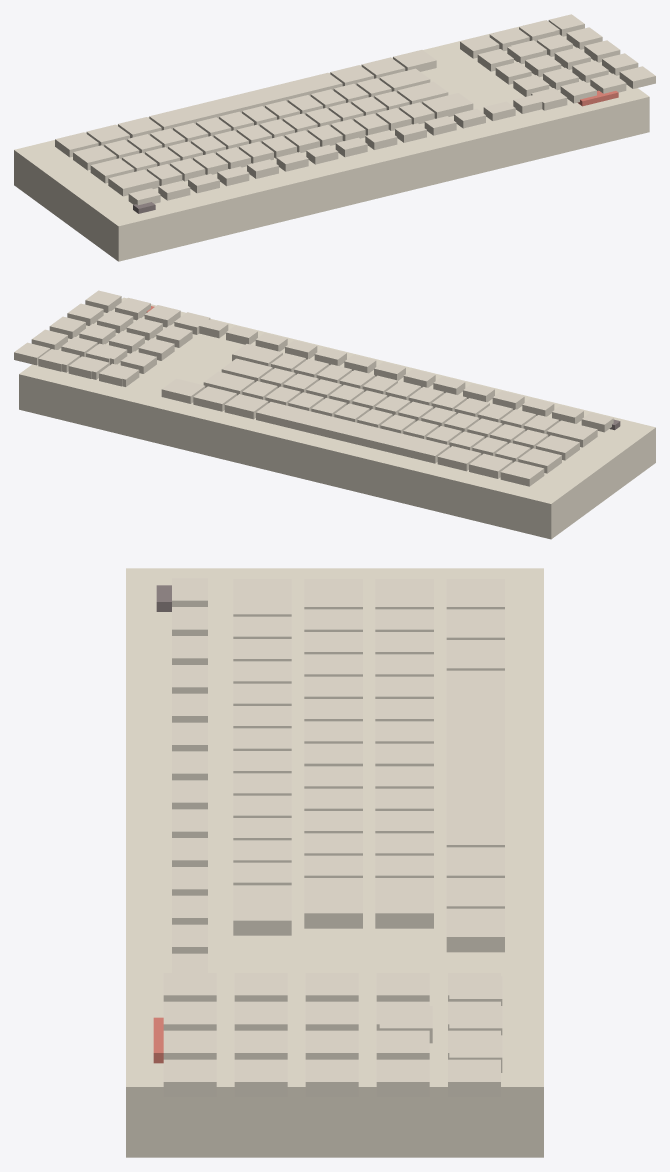
Rendered from item_88_keyboard.glb.
3 views of the same model, one above another, from view 1: azimuth 30°, elevation 25°; view 2: azimuth 150°, elevation 25°; view 3: azimuth 270°, elevation 25° (orthographic). The views are drawn at different scales.
Visible parts, largest first — view 1: I88_Body, I88_B3, I88_K00, I88_K013, I88_K113, I88_K213, I88_K10, I88_B0, I88_B6, I88_K20, I88_N03, I88_B5 (+68 smaller); view 2: I88_Body, I88_B3, I88_K00, I88_B0, I88_B6, I88_B1, I88_B4, I88_B2, I88_B5, I88_K013, I88_K213, I88_K113 (+72 smaller); view 3: I88_Body, I88_B3, I88_K013, I88_K113, I88_K213, I88_B6, I88_K00, I88_N03, I88_N13, I88_N23, I88_N33, I88_N43 (+73 smaller).
Boxes of the visible parts, bbox=[...] form: I88_Body: bbox=[14, 21, 649, 261]; I88_B3: bbox=[149, 72, 342, 130]; I88_K00: bbox=[108, 169, 159, 196]; I88_K013: bbox=[422, 93, 473, 118]; I88_K113: bbox=[397, 81, 448, 104]; I88_K213: bbox=[379, 68, 430, 92]; I88_K10: bbox=[90, 158, 134, 183]; I88_B0: bbox=[55, 132, 98, 157]; I88_B6: bbox=[393, 50, 436, 71]; I88_K20: bbox=[73, 145, 116, 170]; I88_N03: bbox=[619, 66, 655, 88]; I88_B5: bbox=[361, 57, 405, 79]; I88_Body: bbox=[19, 297, 655, 539]; I88_B3: bbox=[256, 402, 449, 463]; I88_K00: bbox=[546, 420, 597, 447]; I88_B0: bbox=[500, 461, 544, 486]; I88_B6: bbox=[161, 378, 205, 403]; I88_B1: bbox=[469, 453, 512, 478]; I88_B4: bbox=[224, 394, 268, 419]; I88_B2: bbox=[437, 446, 481, 471]; I88_B5: bbox=[193, 386, 236, 411]; I88_K013: bbox=[232, 344, 282, 366]; I88_K213: bbox=[203, 371, 254, 395]; I88_K113: bbox=[221, 358, 272, 382]; I88_Body: bbox=[126, 568, 543, 1157]; I88_B3: bbox=[446, 670, 504, 847]; I88_K013: bbox=[233, 885, 291, 935]; I88_K113: bbox=[304, 878, 362, 928]; I88_K213: bbox=[375, 878, 433, 928]; I88_B6: bbox=[446, 908, 504, 952]; I88_K00: bbox=[233, 579, 291, 616]; I88_N03: bbox=[163, 1059, 216, 1096]; I88_N13: bbox=[234, 1059, 287, 1096]; I88_N23: bbox=[305, 1059, 358, 1096]; I88_N33: bbox=[376, 1059, 429, 1096]; I88_N43: bbox=[448, 1059, 500, 1096].
Size of the model in its own units: 0.453 by 0.036 by 0.15.
